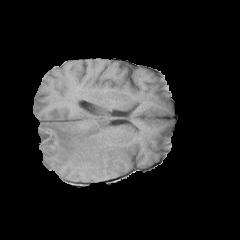glioma: (38, 123, 121, 181)
